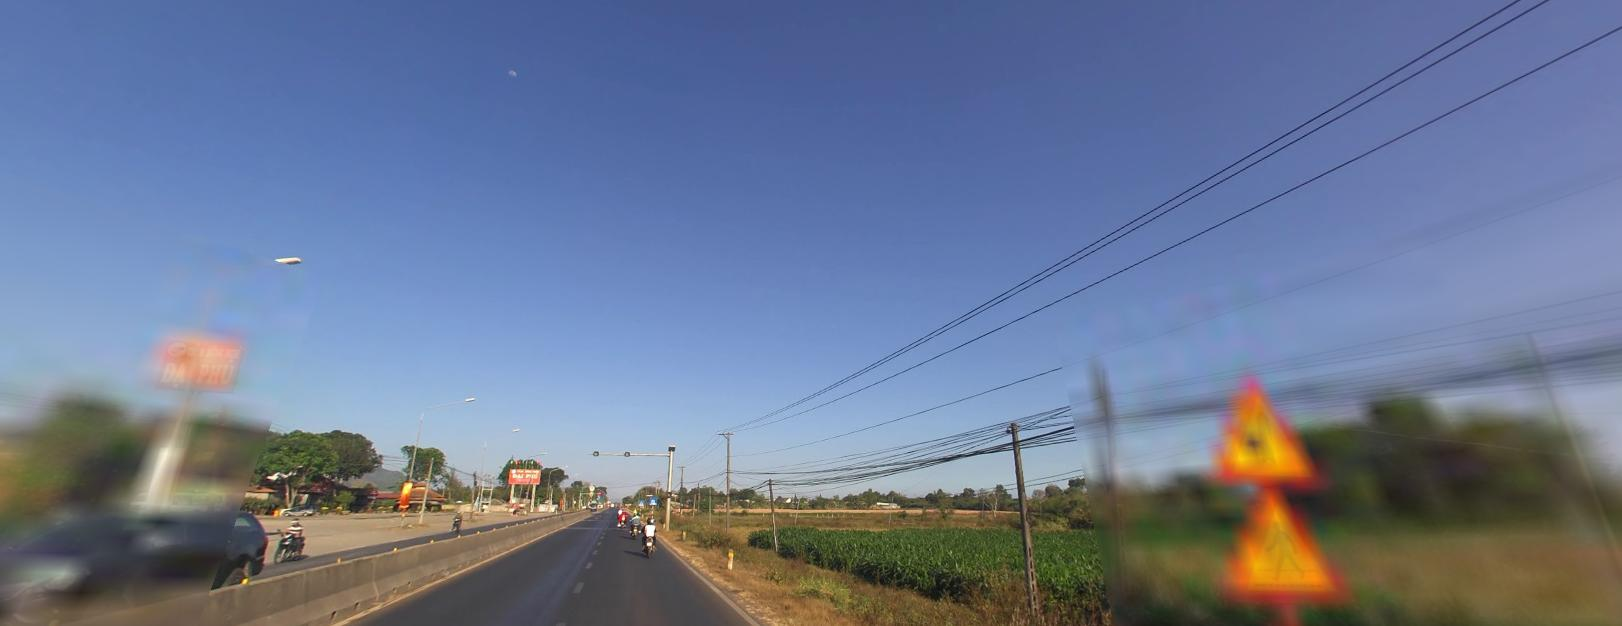Cam nguoc chieu: (596, 489, 600, 491)
Hieu lenh: (596, 493, 600, 496)
Nguy hiem: (1212, 491, 1362, 607), (1205, 386, 1324, 490)
